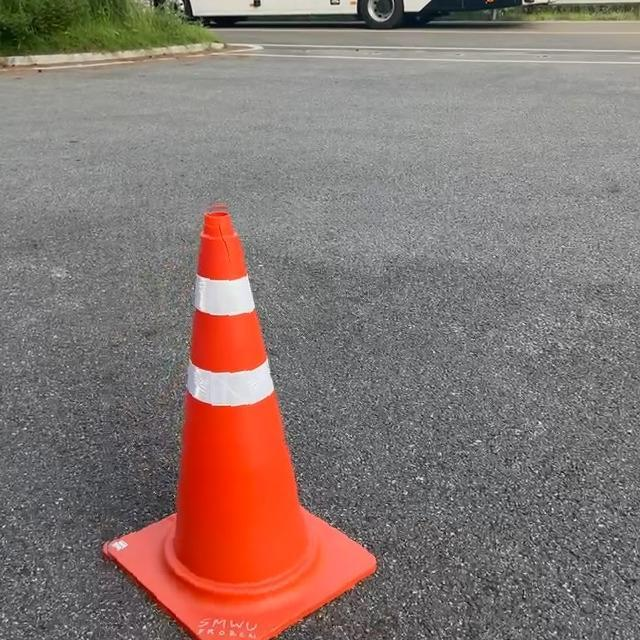fallen_object: (105, 170, 434, 640)
